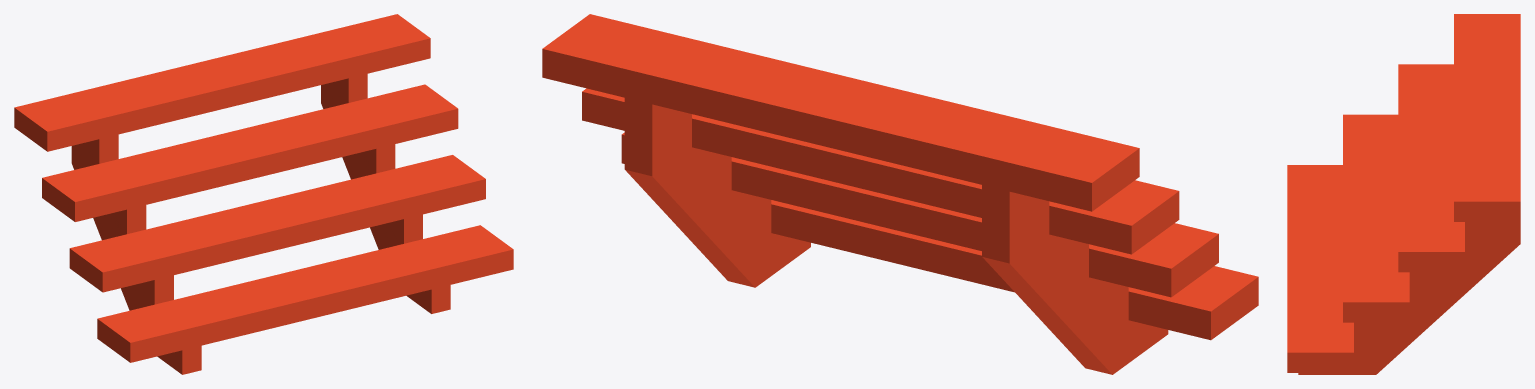
Rendered from SM_Stairs_Wood_Regular_2m_Bottom.fbx.
The picture shows the model from 3 angles, left to right: view 1: azimuth 30°, elevation 25°; view 2: azimuth 150°, elevation 25°; view 3: azimuth 270°, elevation 25°; orthographic projection. The views are drawn at different scales.
Parts seen in each view (by area): view 1: stairs-wood-regular-2m-bottom; view 2: stairs-wood-regular-2m-bottom; view 3: stairs-wood-regular-2m-bottom.
Boxes of the visible parts, bbox=[...] form: stairs-wood-regular-2m-bottom: bbox=[14, 14, 513, 374]; stairs-wood-regular-2m-bottom: bbox=[542, 14, 1258, 374]; stairs-wood-regular-2m-bottom: bbox=[1287, 14, 1520, 374].
Bounding box in the file's own units: 2 × 1 × 1.05.
